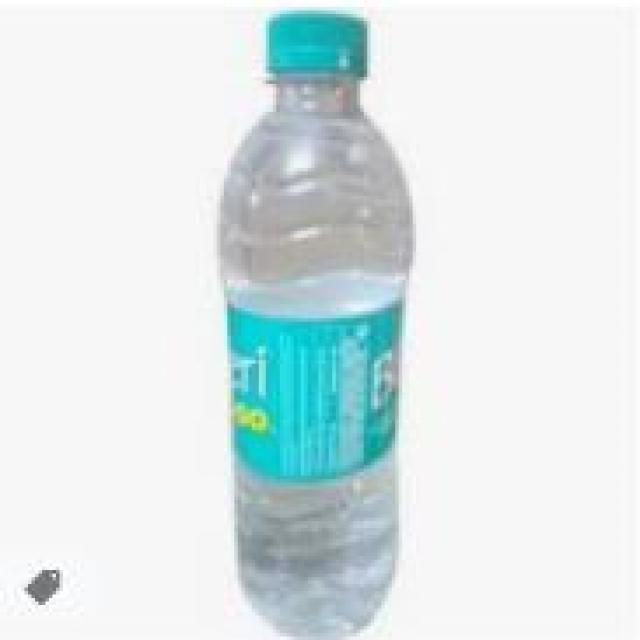bottle: (189, 9, 429, 609)
